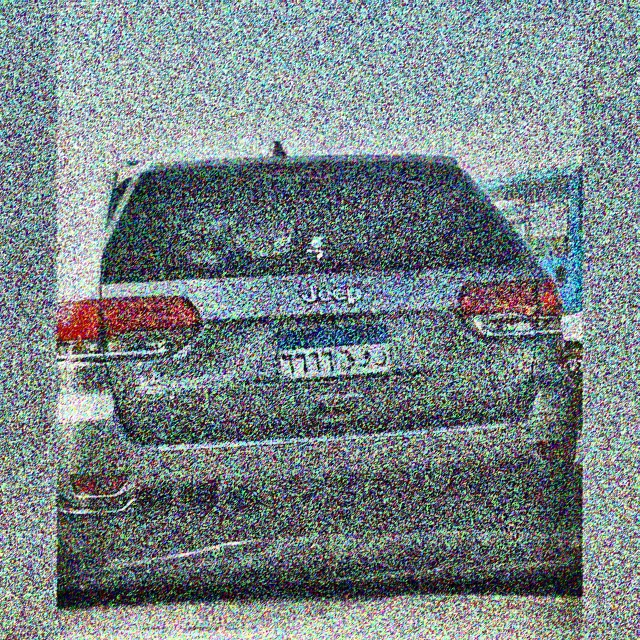License Plate: (274, 323, 395, 383)
